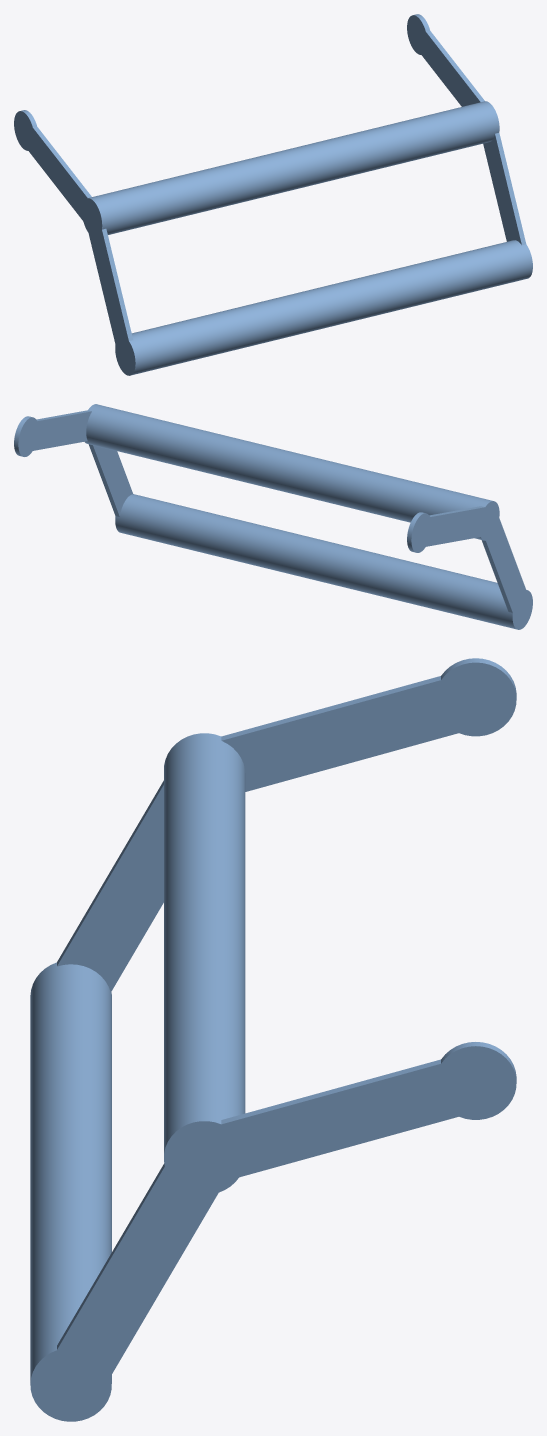
3 views of the same model, one above another, from view 1: azimuth 30°, elevation 25°; view 2: azimuth 150°, elevation 25°; view 3: azimuth 270°, elevation 25° (orthographic). The views are drawn at different scales.
Parts seen in each view (by area): view 1: Rollers; view 2: Rollers; view 3: Rollers.
Part boxes in pixels (x1=…): Rollers: x1=14, y1=14, x2=532, y2=375; Rollers: x1=14, y1=404, x2=532, y2=629; Rollers: x1=30, y1=658, x2=516, y2=1421.
Bounding box in the file's own units: 0.5715 × 0.2581 × 0.3028.
